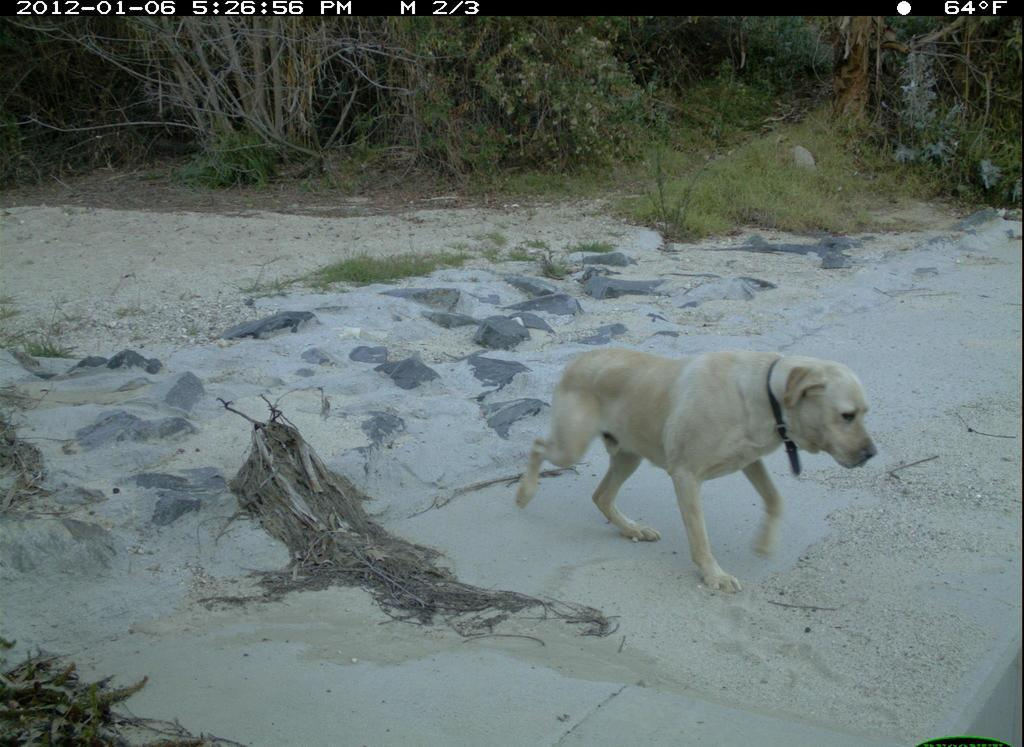dog: (513, 329, 888, 607)
